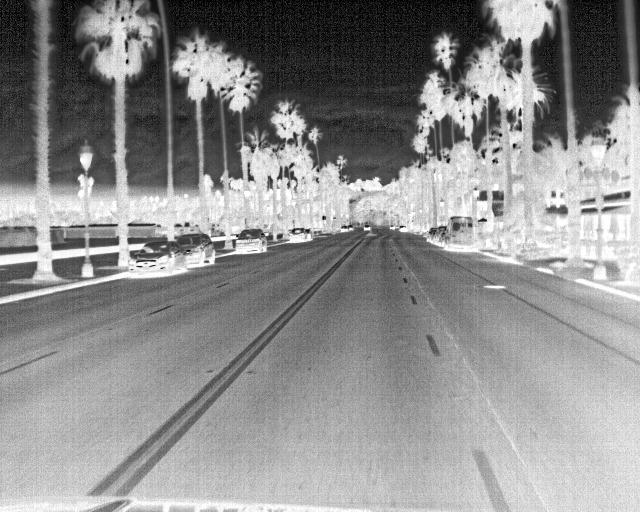car: (130, 239, 186, 277), (176, 232, 213, 266), (442, 214, 473, 251), (236, 228, 267, 254), (430, 224, 448, 245), (287, 227, 308, 244), (425, 225, 438, 243), (302, 228, 314, 242), (339, 224, 348, 235), (362, 223, 372, 232), (347, 224, 355, 232)
